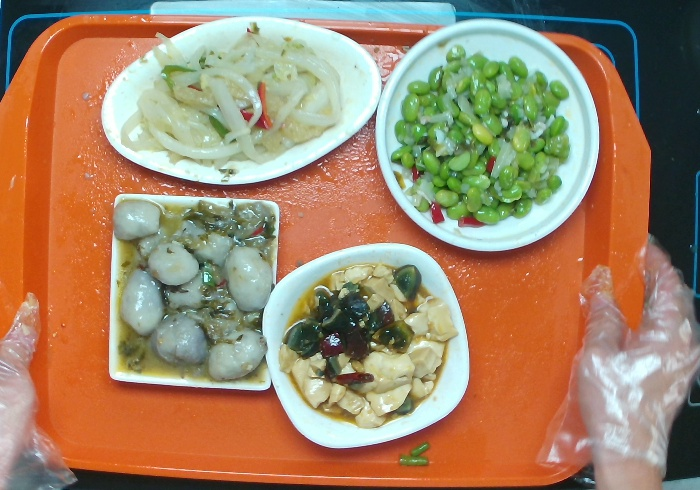HZYJPL-Si_Fang_Die: (103, 191, 282, 394)
HZYJPL-Si_Fang_Yuan_Die: (264, 242, 472, 451)
HZYJPL-Xiao_Yu_Die: (101, 15, 383, 190)
HZYJPL-Xiao_Yuan_Die: (375, 16, 604, 254)
